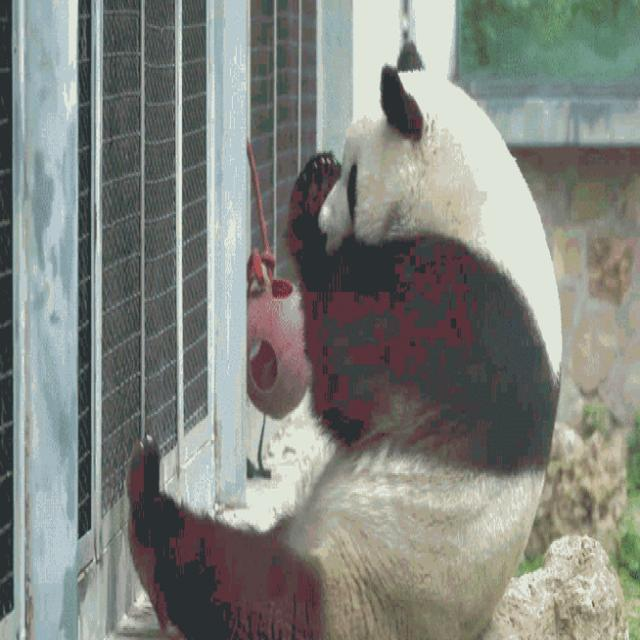panda: (135, 33, 560, 640)
